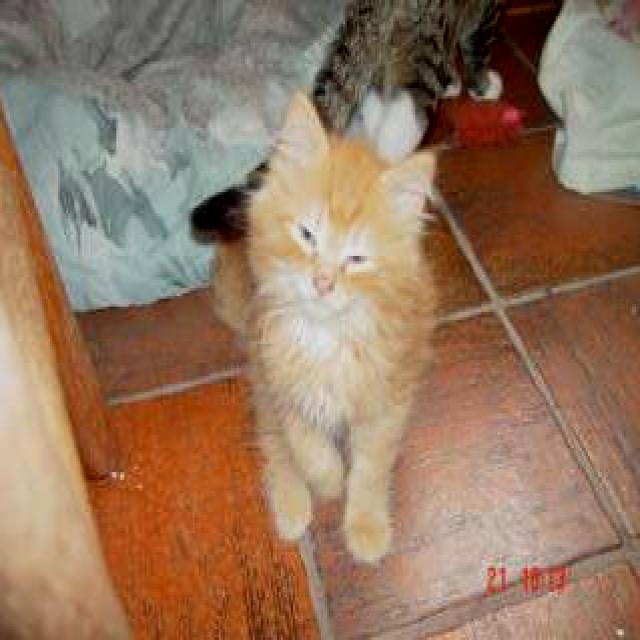Kucing: (220, 112, 442, 545)
